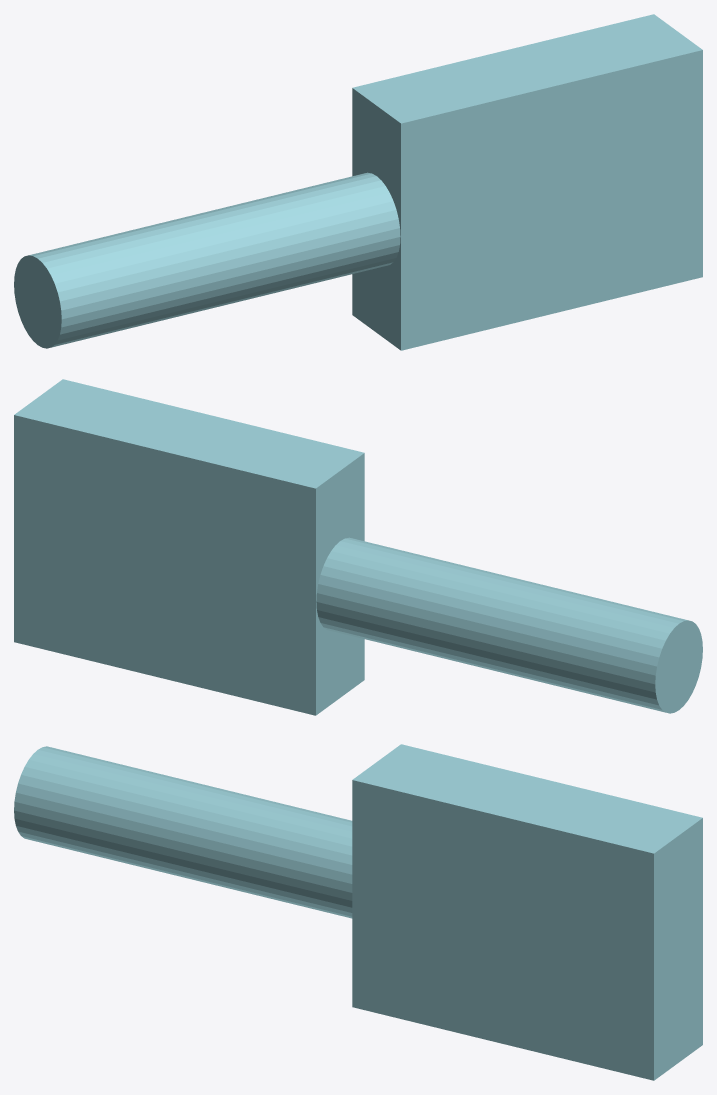
File: cylinder_brush_v11006.obj
3 renders of one model, top to bottom at view 1: azimuth 30°, elevation 25°; view 2: azimuth 150°, elevation 25°; view 3: azimuth 330°, elevation 25°, orthographic.
Bounding box in the file's own units: 0.1742 × 0.059 × 0.023.
Materials: 1 (1 with a texture image).
